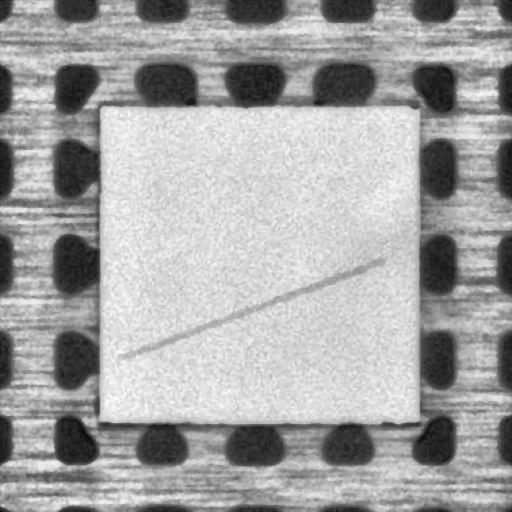DIE_CRACK: (122, 260, 382, 358)
